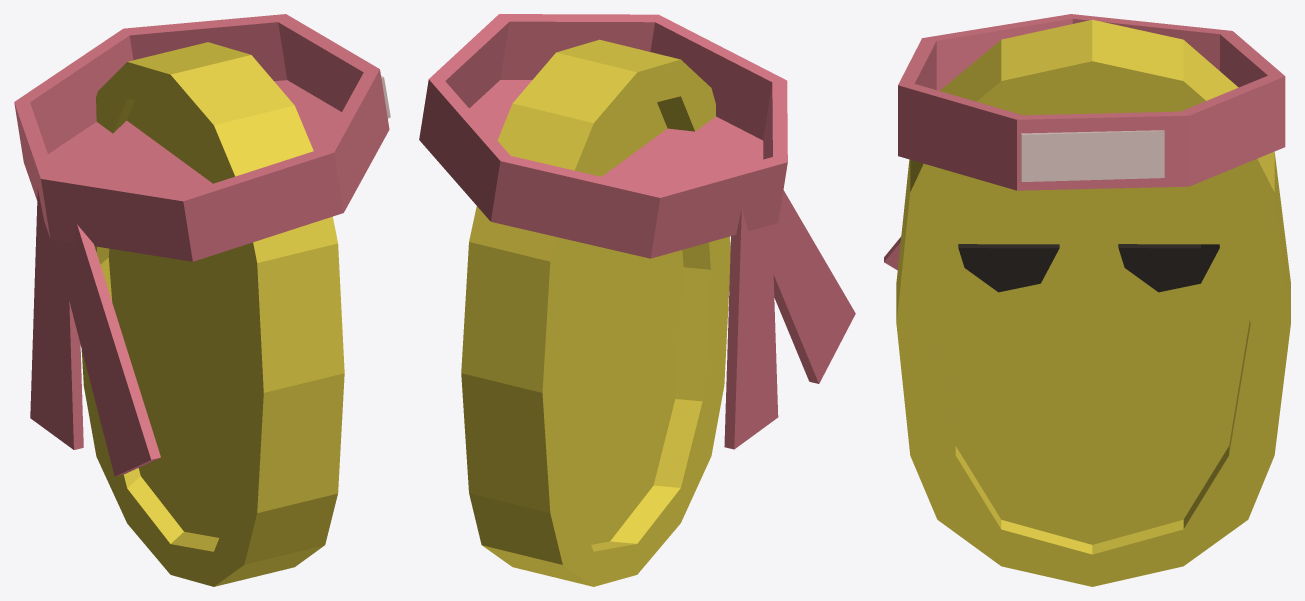
Rendered from SenseiCoin.fbx.
3 views of the same model, side by side, from view 1: azimuth 30°, elevation 25°; view 2: azimuth 150°, elevation 25°; view 3: azimuth 270°, elevation 25° (orthographic). The views are drawn at different scales.
Parts seen in each view (by area): view 1: Cube, Cylinder.004; view 2: Cube, Cylinder.004; view 3: Cube, Cylinder.004.
Boxes of the visible parts, box(x1,y1,x2,y2) form: Cube: box(81, 42, 344, 586); Cylinder.004: box(14, 14, 390, 476); Cube: box(461, 39, 730, 586); Cylinder.004: box(419, 14, 855, 449); Cube: box(896, 19, 1290, 586); Cylinder.004: box(884, 14, 1285, 292).
Bounding box in the file's own units: 147 × 215 × 151.
